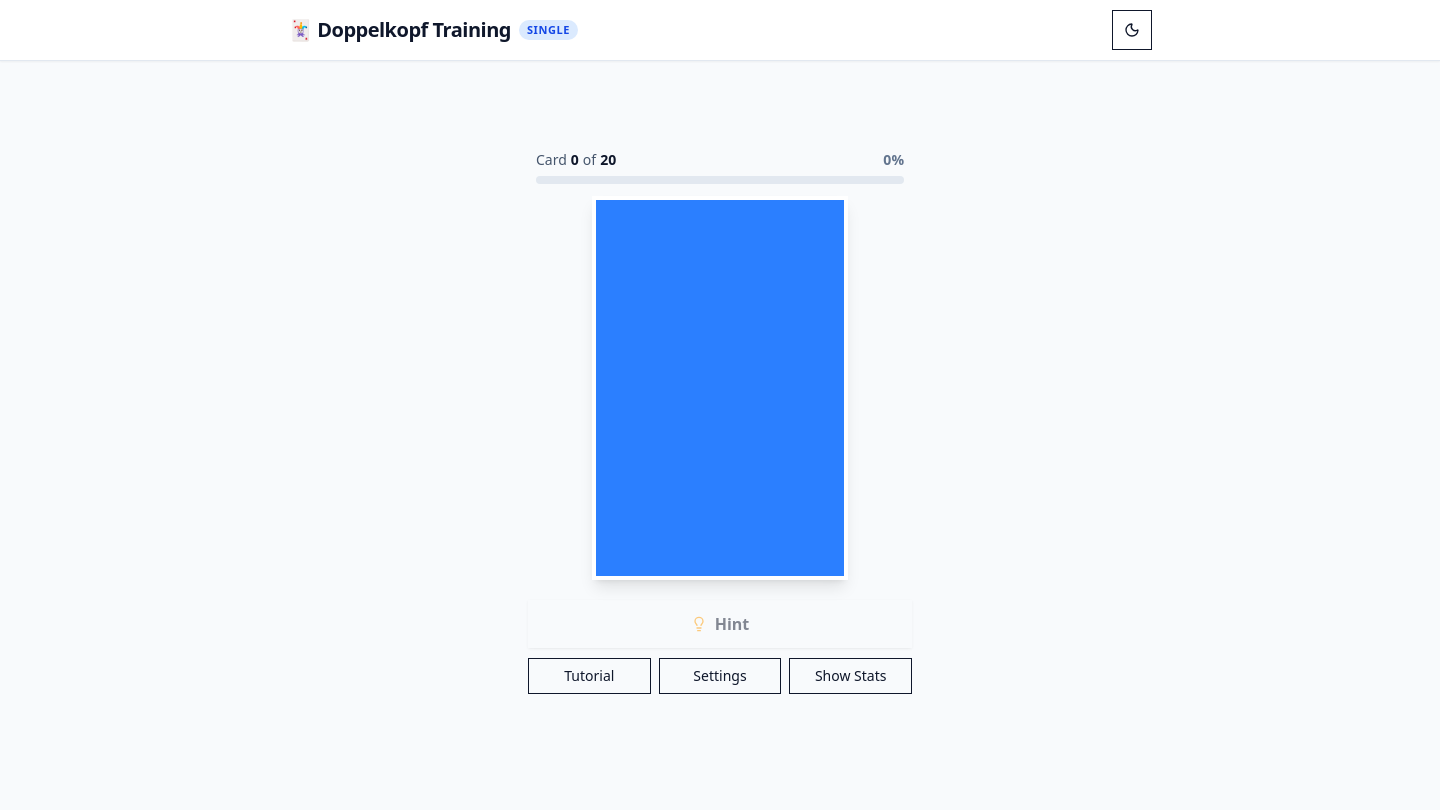
DoppelkopfGame › reveals a card on the first click
Click the button with test id "game-card".
click(720, 388)  # box [592,196,848,580]
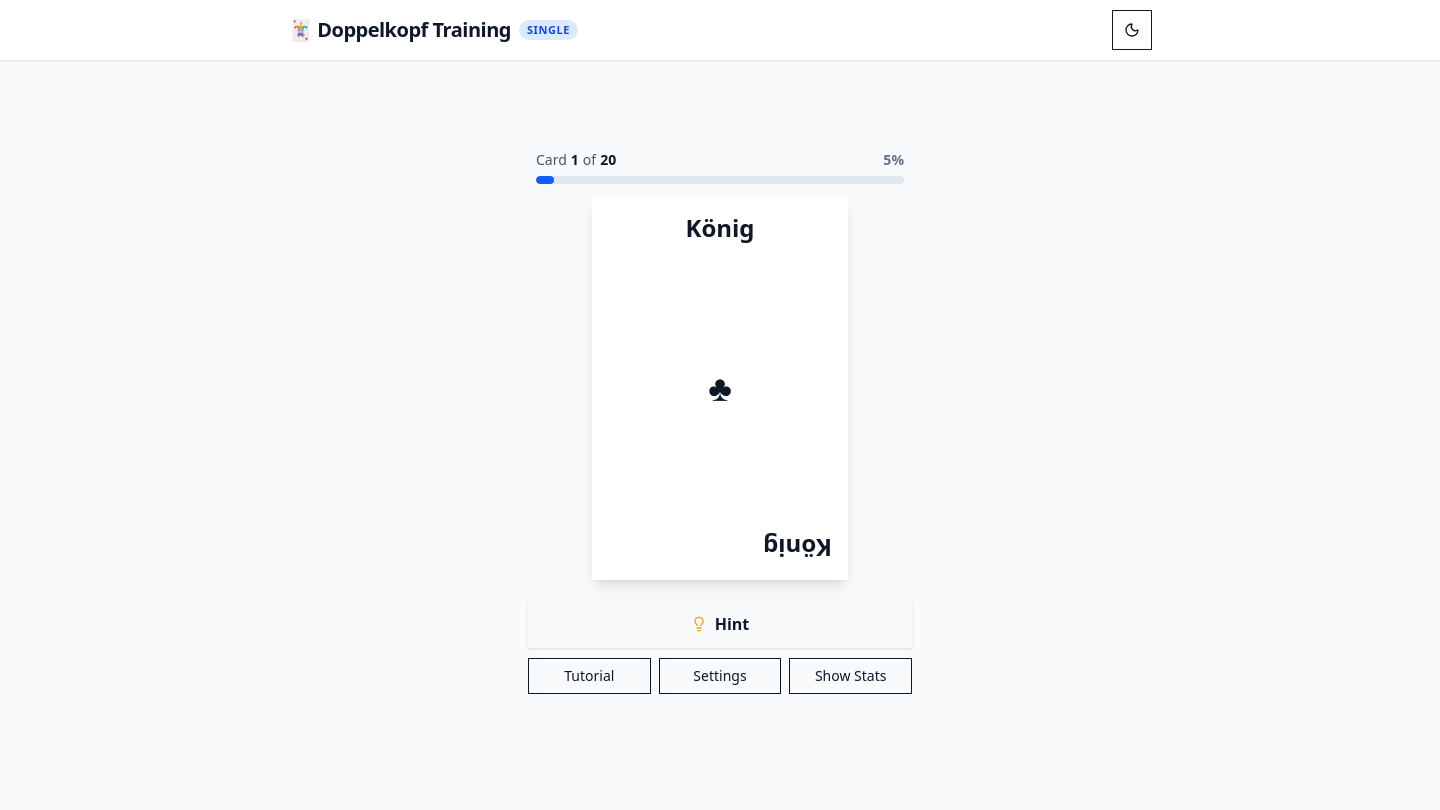
Expected: the element with test id "card-back" is gone
